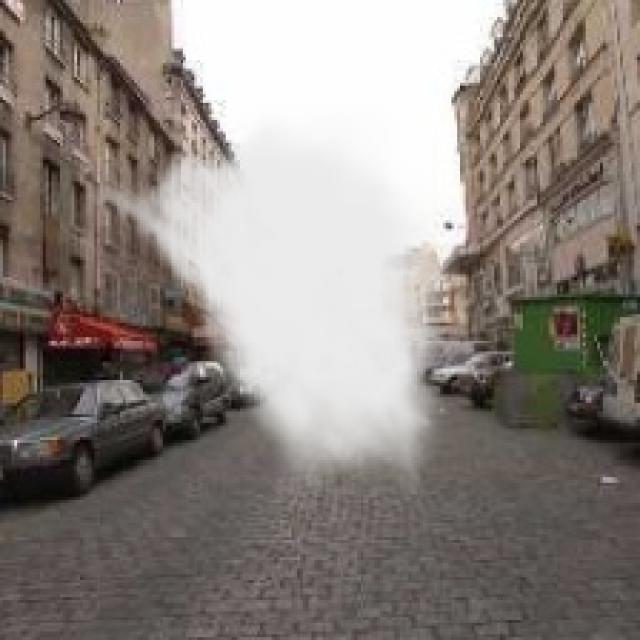smoke: (80, 103, 460, 500)
